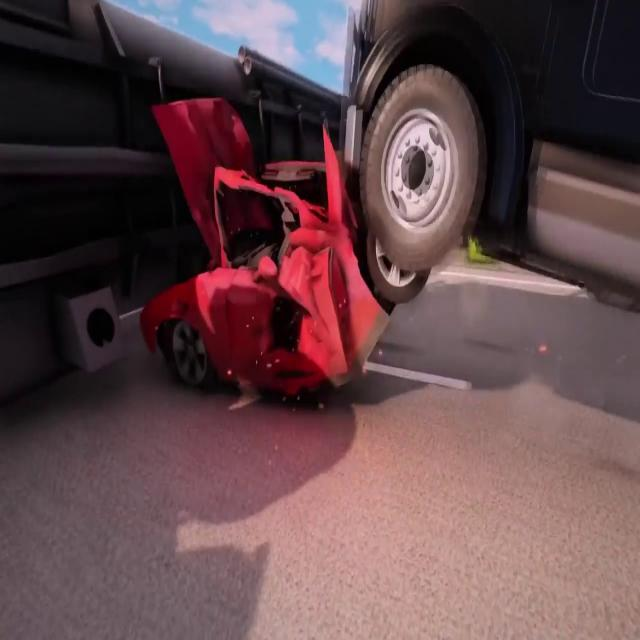accident: (80, 36, 543, 419)
